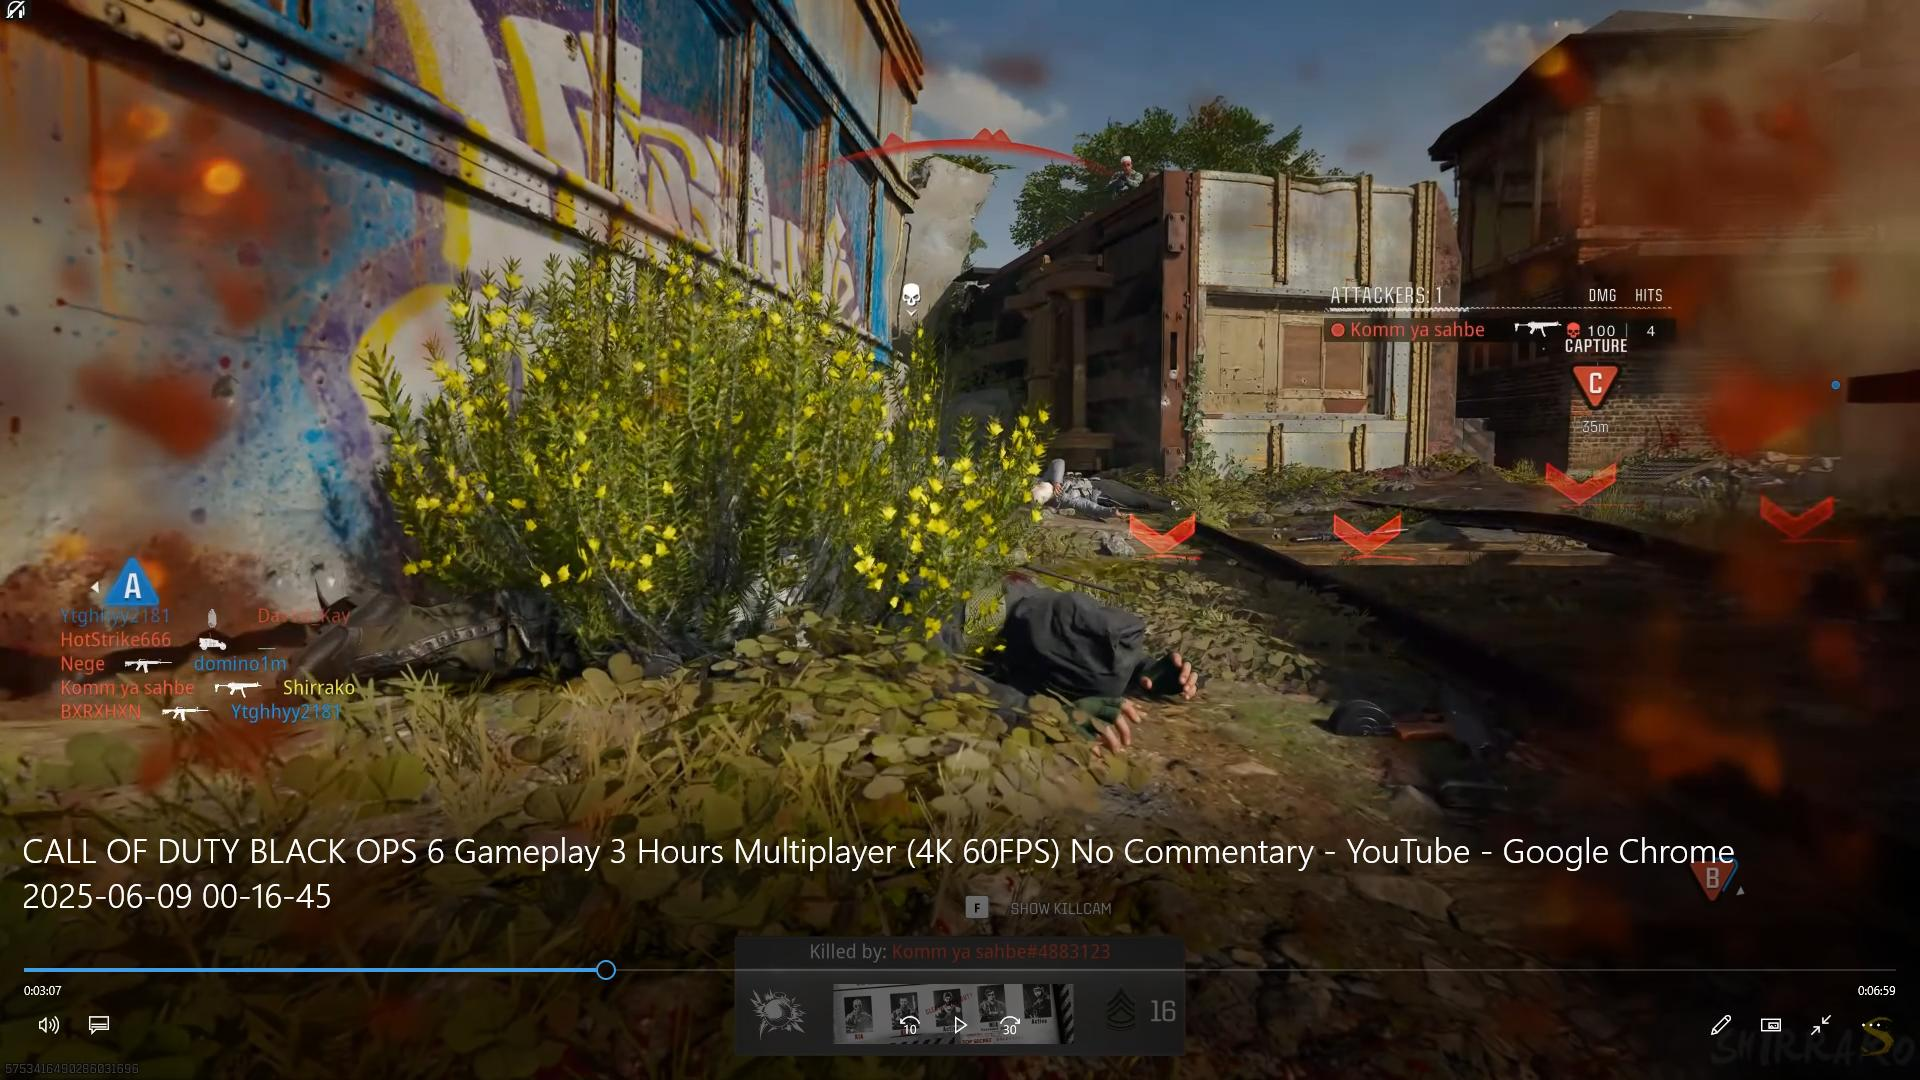Enemy: (1108, 146, 1143, 193)
